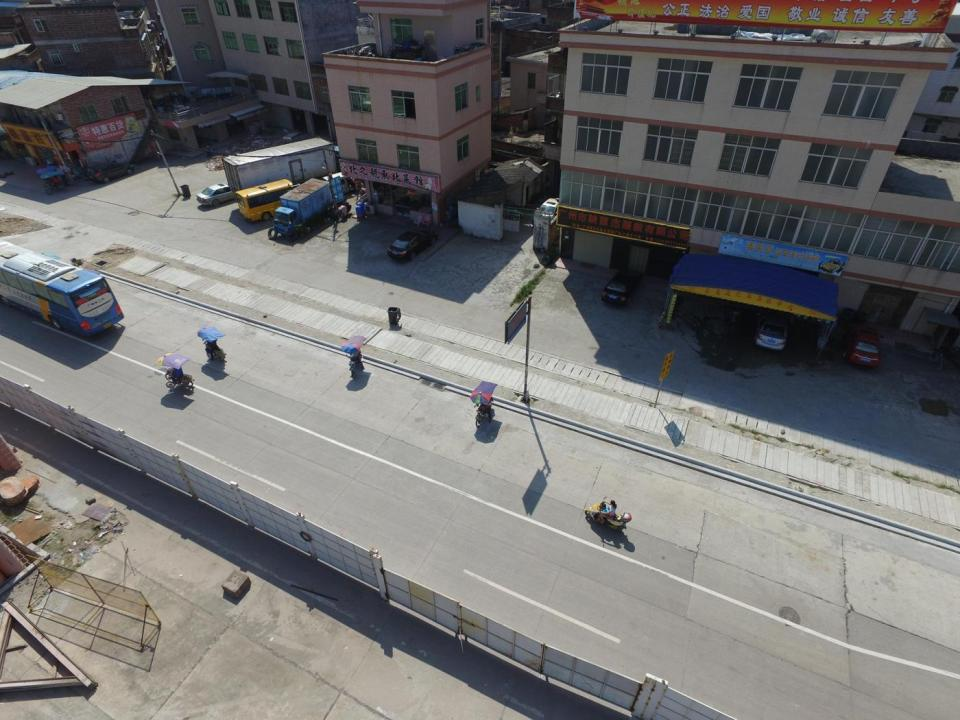bus: (1, 240, 124, 337), (234, 178, 295, 222)
car: (841, 324, 882, 368), (387, 230, 437, 260), (600, 270, 642, 305), (754, 309, 787, 351), (196, 183, 238, 207), (89, 162, 134, 184)
truck: (222, 136, 349, 195)
van: (322, 172, 363, 193)
